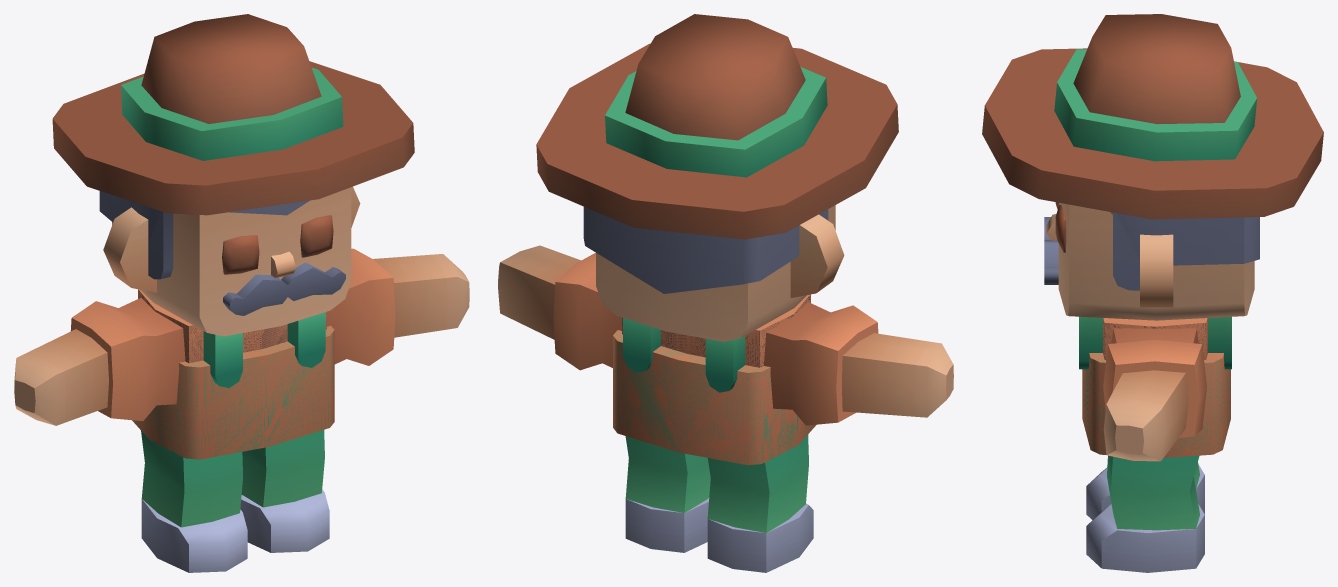
Rendered from grave_keeper.glb.
3 views of the same model, side by side, from view 1: azimuth 30°, elevation 25°; view 2: azimuth 150°, elevation 25°; view 3: azimuth 270°, elevation 25° (orthographic).
Parts seen in each view (by area): view 1: head, leg-right (×2), torso, arm-right, arm-left; view 2: head, torso, leg-right (×2), arm-right, arm-left; view 3: head, leg-right (×2), arm-left, torso.
Part boxes in pixels (x1=…): head: x1=52, y1=14, x2=414, y2=336; leg-right (×2): x1=141, y1=430, x2=329, y2=572; torso: x1=132, y1=289, x2=334, y2=459; arm-right: x1=14, y1=298, x2=185, y2=425; arm-left: x1=327, y1=248, x2=469, y2=365; head: x1=536, y1=14, x2=898, y2=341; torso: x1=613, y1=294, x2=816, y2=465; leg-right (×2): x1=625, y1=434, x2=813, y2=572; arm-right: x1=764, y1=302, x2=953, y2=425; arm-left: x1=498, y1=245, x2=621, y2=370; head: x1=982, y1=14, x2=1323, y2=320; leg-right (×2): x1=1086, y1=455, x2=1204, y2=572; arm-left: x1=1103, y1=328, x2=1206, y2=461; torso: x1=1079, y1=316, x2=1231, y2=457.
Bounding box in the file's own units: 0.8114 × 0.8625 × 0.5371.
Materials: 1 (1 with a texture image).
